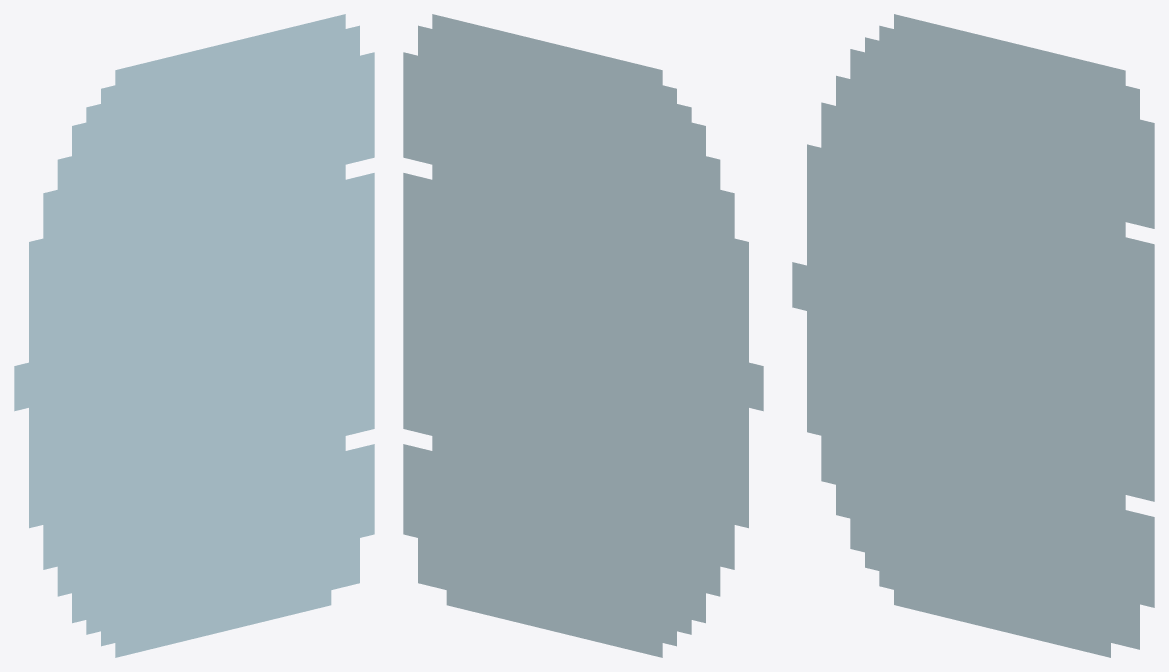
The model's file is wp_water_234.obj.
3 views of the same model, side by side, from view 1: azimuth 30°, elevation 25°; view 2: azimuth 150°, elevation 25°; view 3: azimuth 330°, elevation 25° (orthographic).
Bounding box in the file's own units: 0.375 × 0.585 × 0.
1 material, 1 textured.
